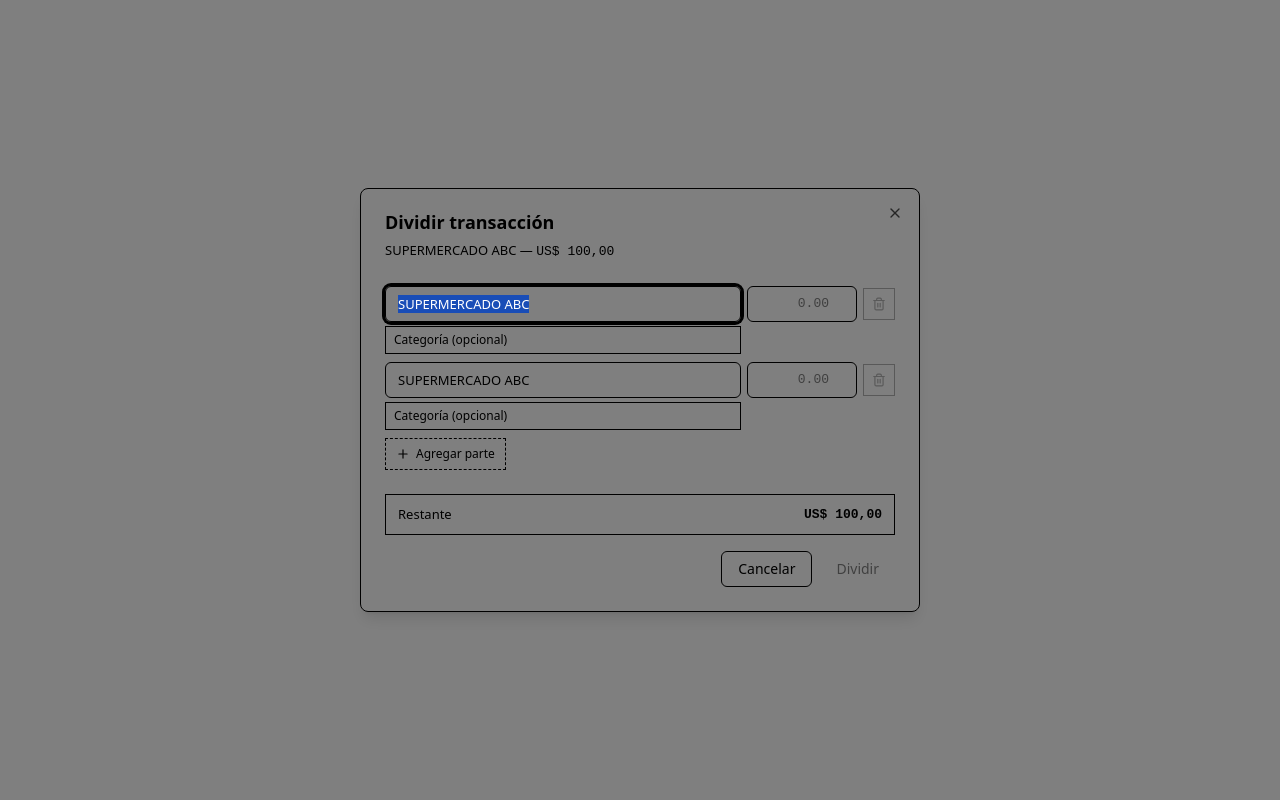
Test case: SplitTransactionDialog › adds a new part when Agregar parte is clicked
What coordinates should you click on to do the following:
click the button "Agregar parte"
I would click on:
 (445, 454)
Its box is [385,438,506,470].
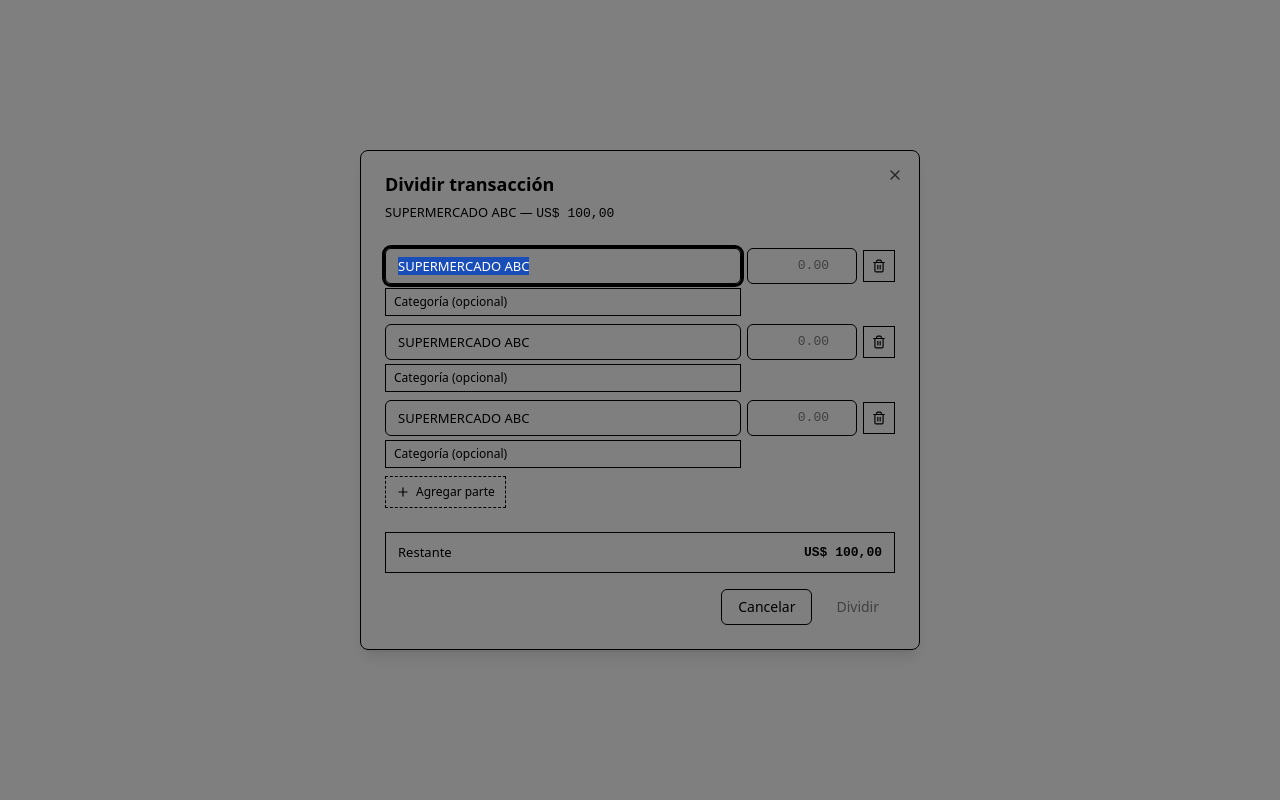
Expected: the number of number fields with placeholder "0.00" is 3, [747,248,857,284]; [747,324,857,360]; [747,400,857,436]
